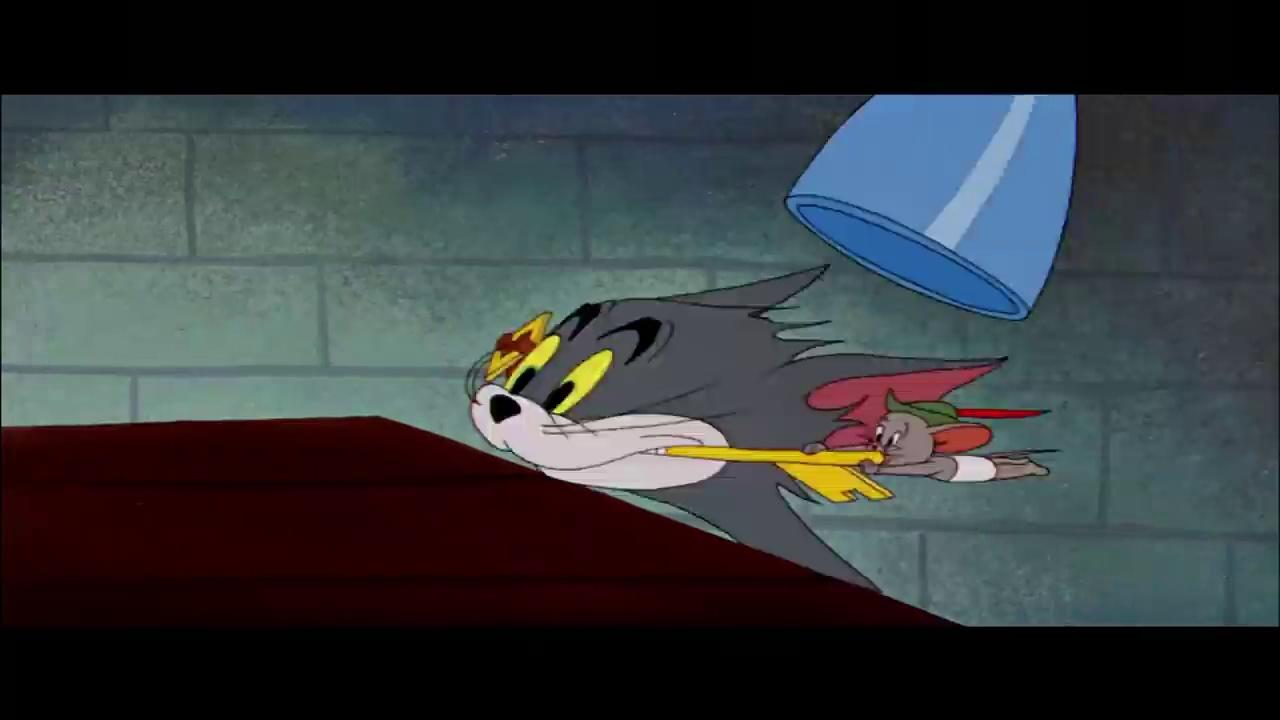Tom: (464, 261, 1012, 599)
